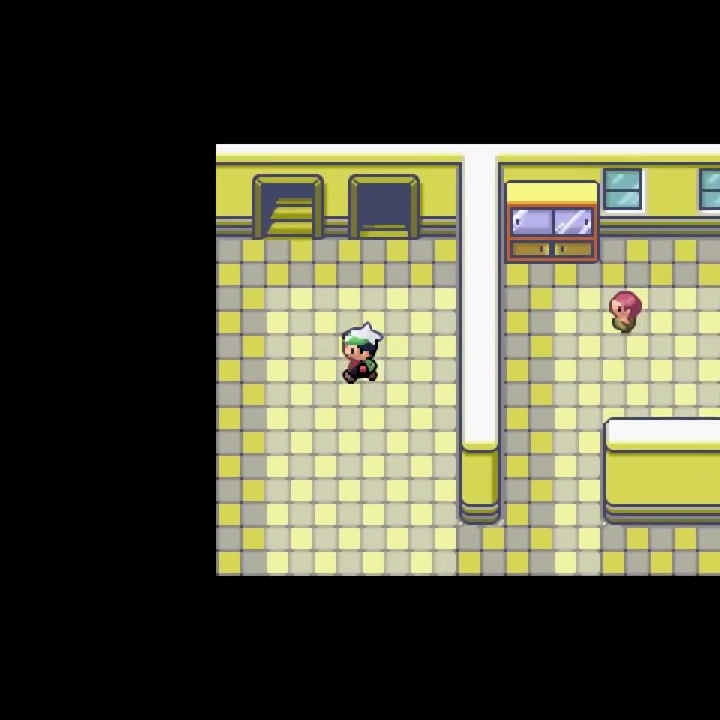agent: (338, 320, 385, 388)
npc: (606, 289, 649, 336)
